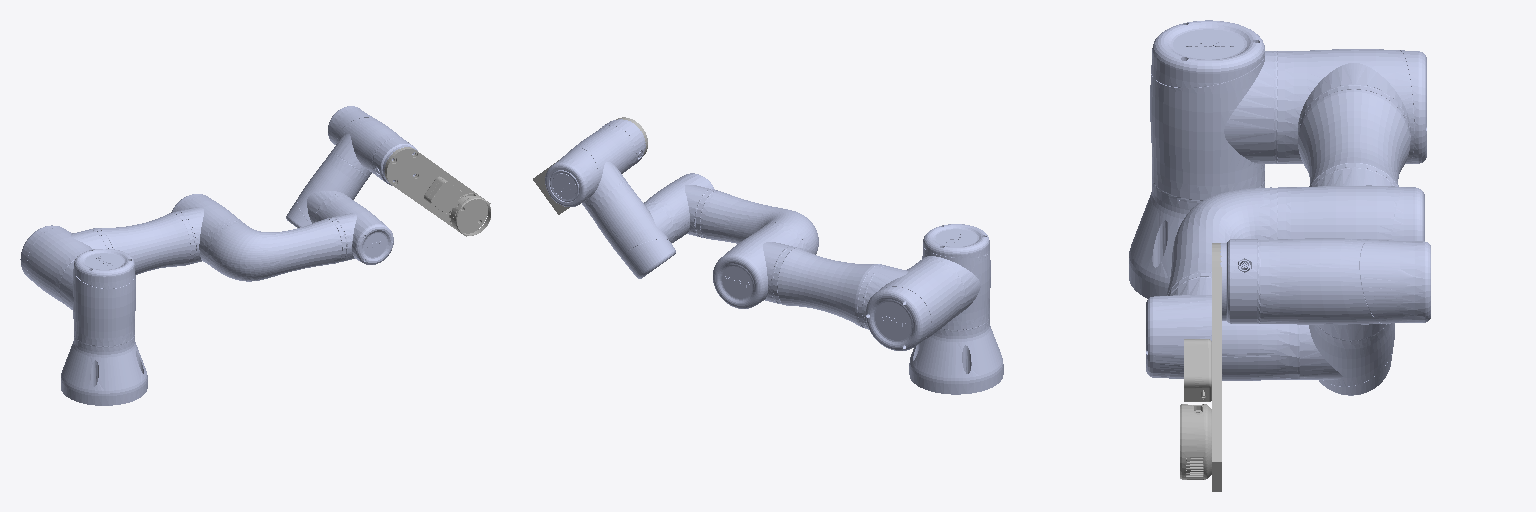
robot.urdf — jaka_zu3:
<?xml version="1.0" encoding="utf-8" ?>
<!-- This URDF was automatically created by SolidWorks to URDF Exporter! Originally created by Stephen Brawner (brawner@gmail.com) 
     Commit Version: 1.5.1-0-g916b5db  Build Version: 1.5.7152.31018
     For more information, please see http://wiki.ros.org/sw_urdf_exporter -->
<robot name="jaka_zu3">

  <link
    name="base_link">
    <inertial>
      <origin
        xyz="-0.0917688751233174 0.0508797854670833 0.00973540194108289"
        rpy="0 0 0" />
      <mass
        value="50" />
      <inertia
        ixx="0.000644942305282229"
        ixy="-1.07240456466458E-05"
        ixz="1.02269729484629E-07"
        iyy="0.00083277814240694"
        iyz="-3.78588377311737E-07"
        izz="0.000651567399906364" />
    </inertial>
    <visual>
      <origin
        xyz="0 0 0"
        rpy="0 0 0" />
      <geometry>
        <mesh
          filename="package://jaka_description/meshes/jaka/base_link.STL" />
      </geometry>
      <material
        name="">
        <color
          rgba="0.792156862745098 0.819607843137255 0.933333333333333 1" />
      </material>
    </visual>
    <collision>
      <origin
        xyz="0 0 0"
        rpy="0 0 0" />
      <geometry>
        <mesh
          filename="package://jaka_description/meshes/jaka/base_link.STL" />
      </geometry>
    </collision>
  </link>

  
  <link
    name="Link_1">
    <inertial>
      <origin
        xyz="-5.79386473104071E-07 0.00396142612578278 0.059156397405342"
        rpy="0 0 0" />
      <mass
        value="0.89666233780953" />
      <inertia
        ixx="0.00160007376397015"
        ixy="1.51990432905416E-08"
        ixz="5.67755379178232E-09"
        iyy="0.00151828368477254"
        iyz="-1.11156329791638E-05"
        izz="0.00108926716920591" />
    </inertial>
    <visual>
      <origin
        xyz="0 0 0"
        rpy="0 0 0" />
      <geometry>
        <mesh
          filename="package://jaka_description/meshes/jaka/Link1.STL" />
      </geometry>
      <material
        name="">
        <color
          rgba="0.792156862745098 0.819607843137255 0.933333333333333 1" />
      </material>
    </visual>
    <collision>
      <origin
        xyz="0 0 0"
        rpy="0 0 0" />
      <geometry>
        <mesh
          filename="package://jaka_description/meshes/jaka/Link1.STL" />
      </geometry>
    </collision>
  </link>



  
  <joint
    name="joint_1"
    type="revolute">
    <origin
      xyz="-0.090202 -0.0097532 0.08805"
      rpy="0 0 0" />
    <parent
      link="base_link" />
    <child
      link="Link_1" />
    <axis
      xyz="0 0 1" />
    <limit lower="-1.745" upper="2.4434" effort="2000" velocity="1.57" />
  </joint>
  <link
    name="Link_2">
    <inertial>
      <origin
        xyz="0.114388025293116 0.0594453130974208 -5.99801178613468E-07"
        rpy="0 0 0" />
      <mass
        value="2.32459418450194" />
      <inertia
        ixx="0.00295801649932728"
        ixy="3.96273739663794E-05"
        ixz="1.40020271627363E-08"
        iyy="0.00353501622914417"
        iyz="-1.6103795182302E-09"
        izz="0.00428968962021201" />
    </inertial>
    <visual>
      <origin
        xyz="0 0 0"
        rpy="0 0 0" />
      <geometry>
        <mesh
          filename="package://jaka_description/meshes/jaka/Link2.STL" />
      </geometry>
      <material
        name="">
        <color
          rgba="0.792156862745098 0.819607843137255 0.933333333333333 1" />
      </material>
    </visual>
    <collision>
      <origin
        xyz="0 0 0"
        rpy="0 0 0" />
      <geometry>
        <mesh
          filename="package://jaka_description/meshes/jaka/Link2.STL" />
      </geometry>
    </collision>
  </link>
  <joint
    name="joint_2"
    type="revolute">
    <origin
      xyz="0 0.0545 0.0625"
      rpy="0 0 0" />
    <parent
      link="Link_1" />
    <child
      link="Link_2" />
    <axis
      xyz="0 -1 0" />
    <limit lower="0" upper="3.2288" effort="1500" velocity="1.57" />
  </joint>
  <link
    name="Link_3">
    <inertial>
      <origin
        xyz="0.109611865845496 -0.0468775125309047 7.72757987888006E-06"
        rpy="0 0 0" />
      <mass
        value="1.15012395563863" />
      <inertia
        ixx="0.00118957640101345"
        ixy="0.000112207863900521"
        ixz="-1.56329312016609E-07"
        iyy="0.00753588779239275"
        iyz="5.92195920621916E-08"
        izz="0.00801234100616674" />
    </inertial>
    <visual>
      <origin
        xyz="0 0 0"
        rpy="0 0 0" />
      <geometry>
        <mesh
          filename="package://jaka_description/meshes/jaka/Link3.STL" />
      </geometry>
      <material
        name="">
        <color
          rgba="0.792156862745098 0.819607843137255 0.933333333333333 1" />
      </material>
    </visual>
    <collision>
      <origin
        xyz="0 0 0"
        rpy="0 0 0" />
      <geometry>
        <mesh
          filename="package://jaka_description/meshes/jaka/Link3.STL" />
      </geometry>
    </collision>
  </link>
  <joint
    name="joint_3"
    type="revolute">
    <origin
      xyz="0.248 0.0015 0"
      rpy="0 0 0" />
    <parent
      link="Link_2" />
    <child
      link="Link_3" />
    <axis
      xyz="0 -1 0" />
    <limit lower="-2.2689" upper="1.7453" effort="1500" velocity="1.57" />
  </joint>
  <link
    name="Link_4">
    <inertial>
      <origin
        xyz="6.53947711537484E-08 0.0408390588955469 -0.0140511369483602"
        rpy="0 0 0" />
      <mass
        value="0.493338476011742" />
      <inertia
        ixx="0.000501619161024134"
        ixy="2.68567122984883E-09"
        ixz="-3.51552767419527E-09"
        iyy="0.000479090665777605"
        iyz="6.21590765713621E-05"
        izz="0.000324137372153937" />
    </inertial>
    <visual>
      <origin
        xyz="0 0 0"
        rpy="0 0 0" />
      <geometry>
        <mesh
          filename="package://jaka_description/meshes/jaka/Link4.STL" />
      </geometry>
      <material
        name="">
        <color
          rgba="0.792156862745098 0.819607843137255 0.933333333333333 1" />
      </material>
    </visual>
    <collision>
      <origin
        xyz="0 0 0"
        rpy="0 0 0" />
      <geometry>
        <mesh
          filename="package://jaka_description/meshes/jaka/Link4.STL" />
      </geometry>
    </collision>
  </link>
  <joint
    name="joint_4"
    type="revolute">
    <origin
      xyz="0.19004 0.015211 0"
      rpy="0 0 0" />
    <parent
      link="Link_3" />
    <child
      link="Link_4" />
    <axis
      xyz="0 -1 0" />
    <limit lower="1.1344" upper="3.6652" effort="1000" velocity="1.57" />
  </joint>
  <link
    name="Link_5">
    <inertial>
      <origin
        xyz="2.56632870176965E-07 -0.00686418713399824 -0.0385919175992825"
        rpy="0 0 0" />
      <mass
        value="0.550820224773791" />
      <inertia
        ixx="0.00100137629272665"
        ixy="-4.88776045089493E-09"
        ixz="-4.91055232217826E-10"
        iyy="0.000360282817701708"
        iyz="-1.68469232437256E-05"
        izz="0.000972802537191737" />
    </inertial>
    <visual>
      <origin
        xyz="0 0 0"
        rpy="0 0 0" />
      <geometry>
        <mesh
          filename="package://jaka_description/meshes/jaka/Link5.STL" />
      </geometry>
      <material
        name="">
        <color
          rgba="0.792156862745098 0.819607843137255 0.933333333333333 1" />
      </material>
    </visual>
    <collision>
      <origin
        xyz="0 0 0"
        rpy="0 0 0" />
      <geometry>
        <mesh
          filename="package://jaka_description/meshes/jaka/Link5.STL" />
      </geometry>
    </collision>
  </link>
  <joint
    name="joint_5"
    type="revolute">
    <origin
      xyz="0 0.044 -0.076"
      rpy="0 0 0" />
    <parent
      link="Link_4" />
    <child
      link="Link_5" />
    <axis
      xyz="0 0 -1" />
    <limit lower="0" upper="3.14" effort="1000" velocity="1.57" />
  </joint>
  <link
    name="Link_6">
    <inertial>
      <origin
        xyz="4.97159345877463E-05 -0.015627949774861 -2.96725446043491E-05"
        rpy="0 0 0" />
      <mass
        value="0.100331531580123" />
      <inertia
        ixx="3.54954199750465E-05"
        ixy="5.67417205643794E-08"
        ixz="-8.78494278516143E-08"
        iyy="5.77325176012704E-05"
        iyz="-1.26531331629178E-07"
        izz="3.63067542634484E-05" />
    </inertial>
    <visual>
      <origin
        xyz="0 0 0"
        rpy="0 0 0" />
      <geometry>
        <mesh
          filename="package://jaka_description/meshes/jaka/Link6.STL" />
      </geometry>
      <material
        name="">
        <color
          rgba="0.792156862745098 0.819607843137255 0.933333333333333 1" />
      </material>
    </visual>
    <collision>
      <origin
        xyz="0 0 0"
        rpy="0 0 0" />
      <geometry>
        <mesh
          filename="package://jaka_description/meshes/jaka/Link6.STL" />
      </geometry>
    </collision>
  </link>
  <joint
    name="joint_6"
    type="revolute">
    <origin
      xyz="0 -0.0745 -0.0415"
      rpy="0 0 0" />
    <parent
      link="Link_5" />
    <child
      link="Link_6" />
    <axis
      xyz="0 -1 0" />
    <limit lower="-1.57" upper="4.5378" effort="1000" velocity="1.57" />
  </joint>

  








    <link name="end_link">
        <inertial>
        <origin xyz="0 0 0" rpy="0 0 0" />
        <mass value="0.33716" />
        <inertia
            ixx="0.0"
            ixy="0.0"
            ixz="0.0"
            iyy="0.0"
            iyz="0.0"
            izz="0.0"/>
        </inertial>
        <visual>
        <origin xyz="0 0 0" rpy="0 0 0" />
        <geometry>
            <mesh filename="package://jaka_description/meshes/jaka_zu3_meshes/Link_8.STL" />
        </geometry>
        <material name="">
            <color rgba="0.75294 0.75294 0.75294 1" />
        </material>
        </visual>
        <collision>
        <origin xyz="0 0 0" rpy="0 0 0" />
        <geometry>
            <mesh filename="package://jaka_description/meshes/jaka_zu3_meshes/Link_8.STL" />
        </geometry>
        </collision>
    </link>

    <joint name="Joint_end_link" type="fixed">  
        <origin xyz="0 -0.03 0" rpy="1.57 1.57 4.71"/>
        <parent link="Link_6"/>
        <child link="end_link"/>
    </joint>




    <link name="pick"/>
    <joint name="flange-pick" type="fixed">
        <!-- default toolframe: X+ left, Y+ up, Z+ front -->
        <!-- <origin xyz="0 0.015 0.09" rpy="0 0 0"/> -->
        <origin xyz="0.0 -0.14 0" rpy="0 0 0"/>
        <parent link="Link_6"/>
        <child link="pick"/>
    </joint>
    



    

</robot>

--- Render facts (derived) ---
Views: 3 orthographic renders of the robot side by side, from view 1: azimuth 30°, elevation 25°; view 2: azimuth 150°, elevation 25°; view 3: azimuth 270°, elevation 25°.
Robot: jaka_zu3 — 9 links, 8 joints (6 revolute, 2 fixed); root link base_link; default pose: all joints at 0 but 1 set to mid-range because 0 is outside their limits (joint_4 = 2.4).
Links seen in each view (by area): view 1: Link_2, Link_3, Link_1, end_link, base_link, Link_5, Link_4, Link_6; view 2: Link_2, Link_3, base_link, Link_4, Link_5, Link_1, Link_6; view 3: Link_2, Link_1, Link_5, Link_3, end_link, Link_4, base_link, Link_6.
Link boxes in pixels (x1,y1,x2,y2): Link_2: (20,194,245,303); Link_3: (209,194,393,281); Link_1: (60,249,135,347); end_link: (384,147,490,236); base_link: (61,337,147,405); Link_5: (328,106,402,176); Link_4: (286,150,368,227); Link_6: (373,138,417,185); Link_2: (713,223,965,350); Link_3: (644,173,818,254); base_link: (909,318,1003,394); Link_4: (585,179,675,278); Link_5: (545,125,635,207); Link_1: (920,224,990,331); Link_6: (602,119,645,165); Link_2: (1270,49,1426,240); Link_1: (1150,20,1273,203); Link_5: (1257,238,1430,339); Link_3: (1146,188,1299,380); end_link: (1180,243,1221,491); Link_4: (1300,323,1394,395); base_link: (1129,181,1264,298); Link_6: (1220,239,1256,323).
Size in the robot's own frame: 0.7288 by 0.2437 by 0.2721 metres.
8 mesh visuals loaded from 8 distinct referenced files (8 binary STL).
